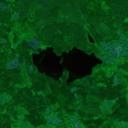alloviz: (31, 44, 103, 85), (86, 32, 95, 44)
